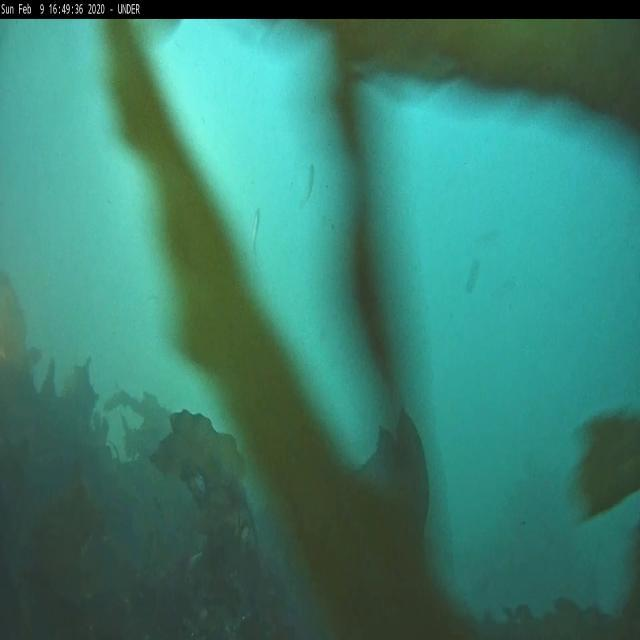fish: (298, 164, 316, 213), (250, 204, 260, 262)
